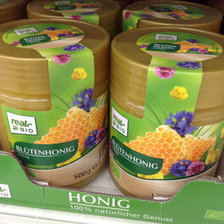honey: (112, 26, 224, 202), (1, 16, 109, 198)
